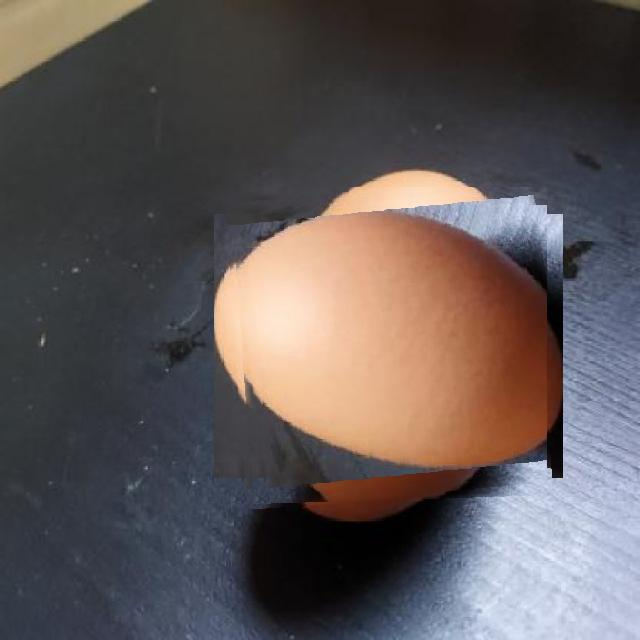biodegradable: (230, 187, 547, 504)
